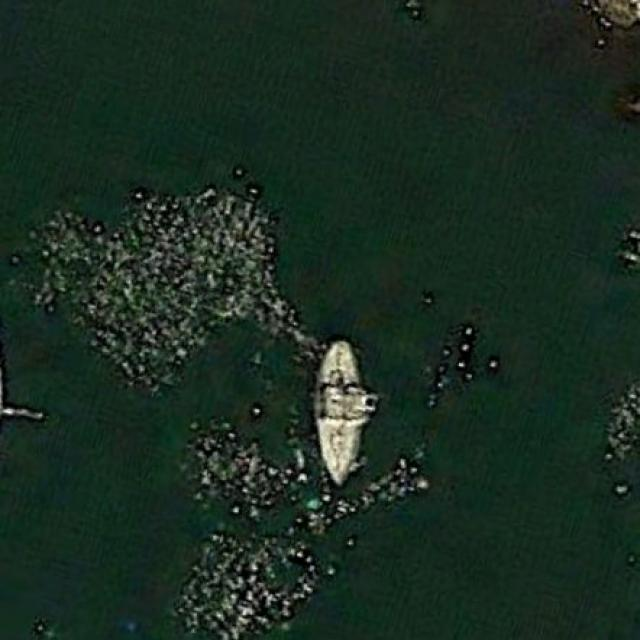ship: (306, 336, 376, 488)
